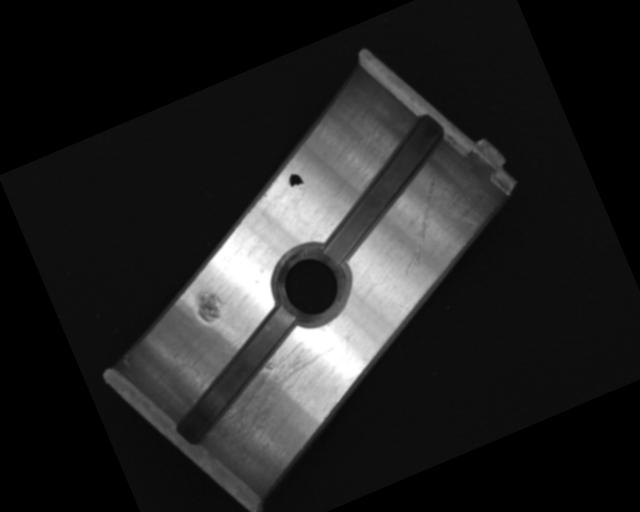blot: (285, 170, 305, 190)
bruise: (191, 287, 228, 326)
gap: (292, 110, 476, 267), (149, 304, 326, 450)
hole: (262, 233, 362, 337)
nick: (372, 173, 469, 278)
scratch: (187, 328, 368, 481)
